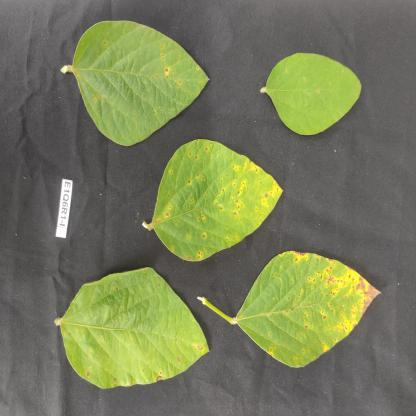label: (44, 169, 94, 250)
leaflets: (36, 260, 225, 415), (219, 240, 382, 378), (65, 14, 208, 145), (140, 132, 283, 253), (254, 46, 381, 143)
